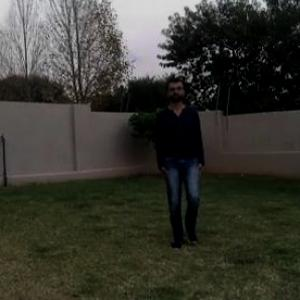follow: (163, 78, 204, 244)
